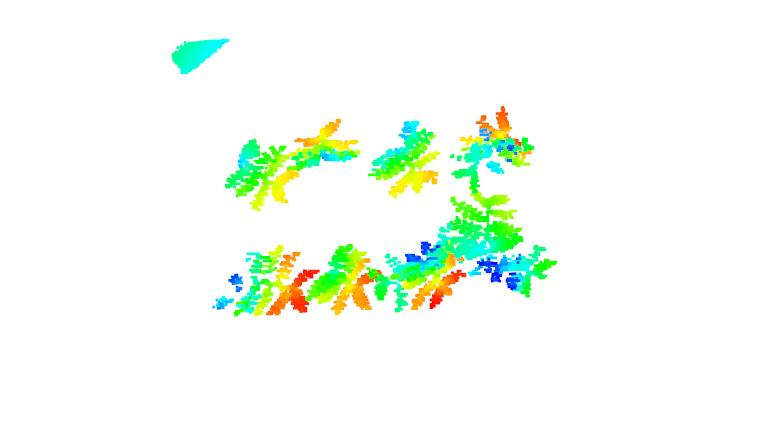chickpea: (441, 190, 559, 297), (446, 103, 541, 194), (212, 244, 320, 318), (376, 233, 464, 310), (219, 136, 301, 210), (367, 118, 440, 196), (308, 245, 380, 315), (291, 118, 362, 173)
